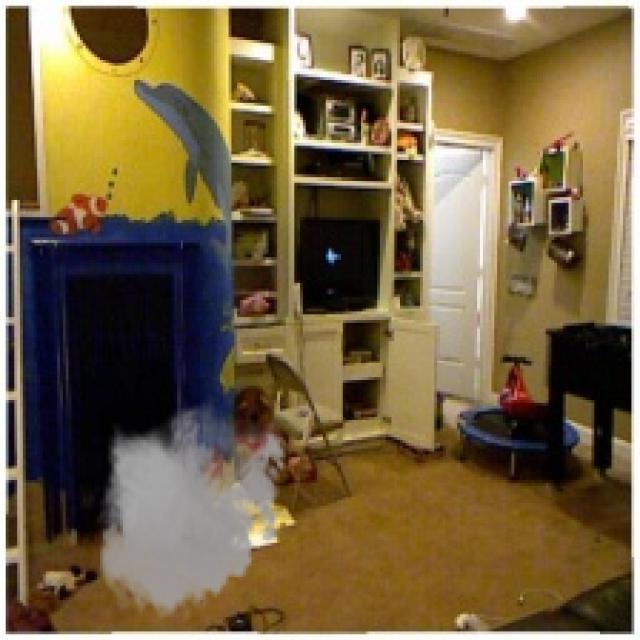Smoke: (91, 394, 292, 626)
